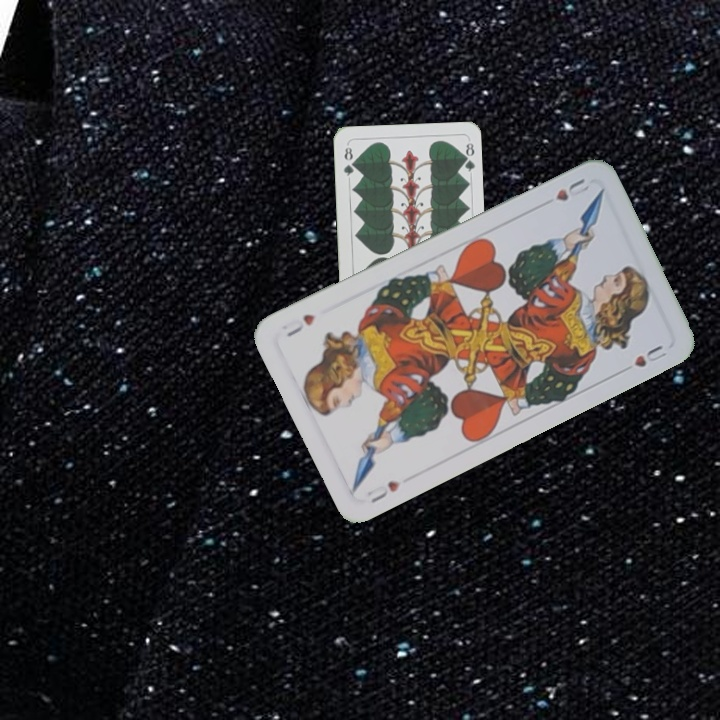G8: (339, 141, 357, 178)
HU: (551, 174, 592, 204), (363, 477, 403, 506)
